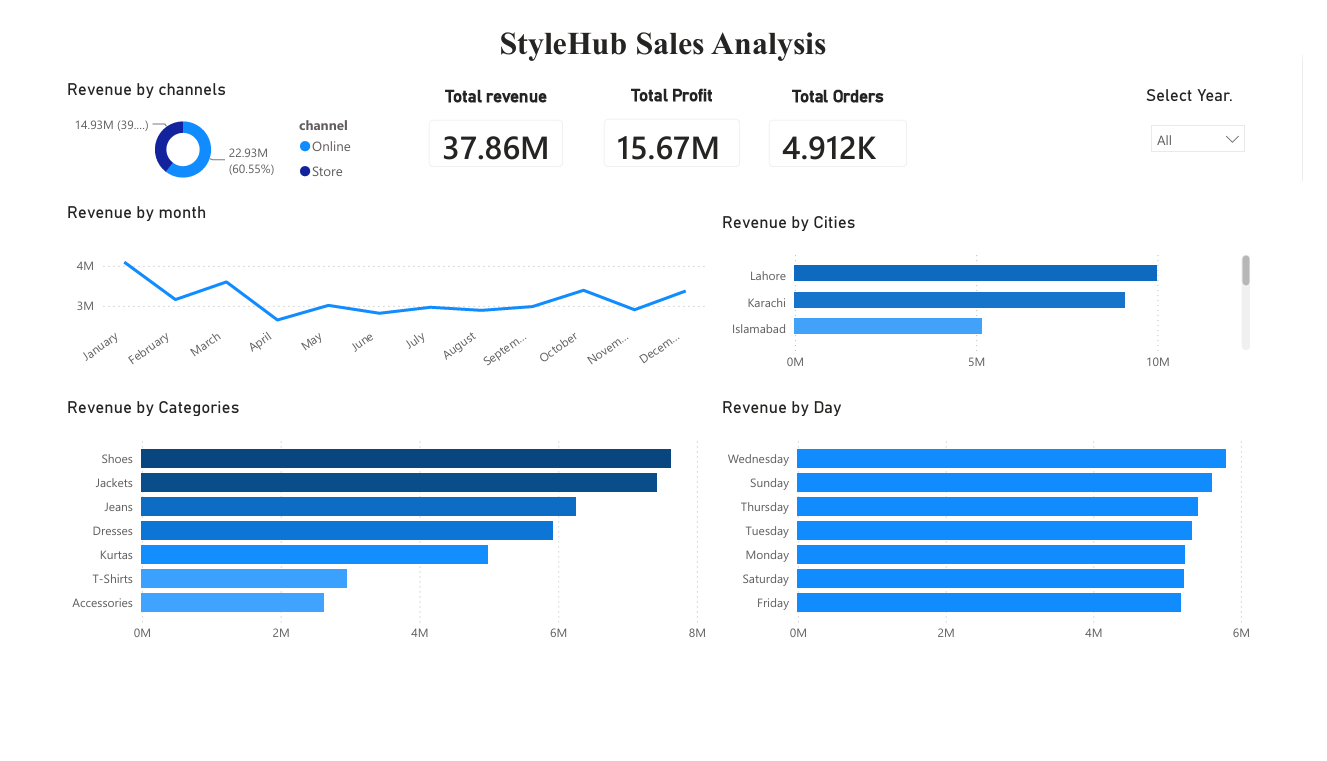

This screenshot's page, from the dashboard's own definition file:
{"tool":"powerbi","page":{"name":"Page 1","canvas":[1280,720],"ordinal":0},"visuals":[{"type":"cardVisual","title":"Total revenue ","fields":{"Data":["Sum(stylehub_final.revenue)"]},"box":[388.7,66.1,168.2,98.2],"z":0},{"type":"cardVisual","title":"Total Profit","fields":{"Data":["Sum(stylehub_final.profit)"]},"box":[564.1,64.8,170.1,99.5],"z":1000},{"type":"cardVisual","title":"Total Orders","fields":{"Data":["Count(stylehub_final.order_id)"]},"box":[729,66.1,172.1,98.2],"z":2000},{"type":"lineChart","title":"Revenue by month","fields":{"Category":["stylehub_final.order_month.Variation.Date Hierarchy.Month"],"Y":["Sum(stylehub_final.revenue)"]},"box":[39.3,181.9,649.2,178],"z":3000},{"type":"slicer","title":"Select Year.","fields":{"Values":["stylehub_final.order_year"]},"box":[1117.7,64.8,114.5,70],"z":4000},{"type":"clusteredBarChart","title":"Revenue by Categories","fields":{"Category":["stylehub_final.category"],"Y":["Sum(stylehub_final.revenue)"]},"box":[39.3,376.9,649.2,253.9],"z":5000},{"type":"donutChart","title":"Revenue by channels","fields":{"Category":["stylehub_final.channel"],"Y":["Sum(stylehub_final.revenue)"]},"box":[39.3,58.9,310.2,111.2],"z":6000},{"type":"barChart","title":"Revenue by Cities","fields":{"Category":["stylehub_final.customer_city"],"Y":["Sum(stylehub_final.revenue)"]},"box":[694.3,191.7,537.9,167.5],"z":7000},{"type":"textbox","box":[0,0,1280,56.3],"z":8000},{"type":"clusteredBarChart","title":"Revenue by Day","fields":{"Category":["stylehub_final.Day Name"],"Y":["Sum(stylehub_final.revenue)"]},"box":[694.3,376.9,537.9,253.9],"z":9000}]}

Visuals, with their boxes in screenshot pixels (x1, y1, x2, y2), scaled from the page's 1280x720 canvas onto the 1327x761 screenshot:
"Total revenue " cardVisual: 403, 70, 577, 174
"Total Profit" cardVisual: 585, 68, 761, 174
"Total Orders" cardVisual: 756, 70, 934, 174
"Revenue by month" lineChart: 41, 192, 714, 380
"Select Year." slicer: 1159, 68, 1277, 142
"Revenue by Categories" clusteredBarChart: 41, 398, 714, 667
"Revenue by channels" donutChart: 41, 62, 362, 180
"Revenue by Cities" barChart: 720, 203, 1277, 380
textbox: 0, 0, 1326, 60
"Revenue by Day" clusteredBarChart: 720, 398, 1277, 667
